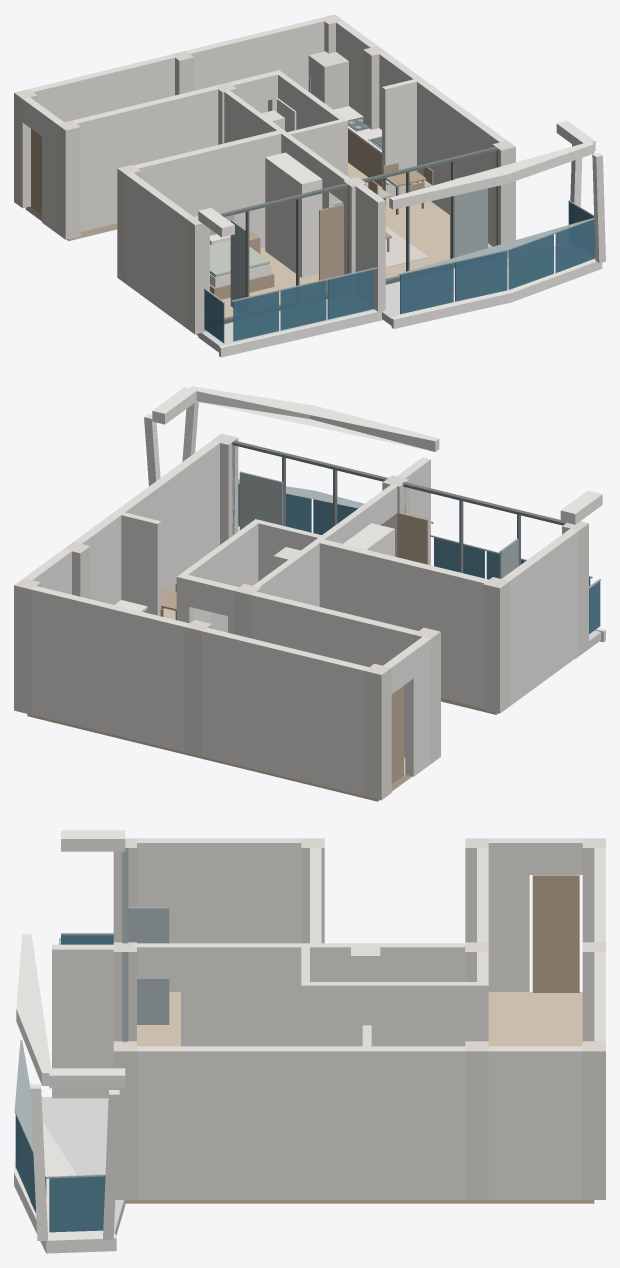
File: apartment.glb
The picture shows the model from 3 angles, top to bottom: view 1: azimuth 30°, elevation 25°; view 2: azimuth 150°, elevation 25°; view 3: azimuth 270°, elevation 25°; orthographic projection. The views are drawn at different scales.
Visible parts, largest first — view 1: Corridor core wall, Bedroom north wall, Living terrace glass (×4), West exterior bedroom, East exterior mid, North exterior kitchen, Bedroom balcony glass (×3), North exterior corridor, Wardrobe closet, Upper white facade band, Kitchen partition stub, Balcony divider wall (+43 smaller); view 2: North exterior corridor, North exterior kitchen, Bedroom north wall, East exterior mid, West exterior bedroom, Corridor core wall, Upper white facade band, Kitchen partition stub, NW Column, Bedroom-NW Column, Bathroom east wall, West corridor stub (+31 smaller); view 3: East exterior mid, West exterior bedroom, East exterior north, Bedroom divider wall, Bathroom east wall, Balcony divider wall, West corridor stub, Entrance open door, Corridor floor, Bathroom west wall, Living terrace slab, NE Column (+32 smaller).
Part boxes in pixels (x1=…): Corridor core wall: x1=72, y1=86, x2=218, y2=231; Bedroom north wall: x1=133, y1=130, x2=281, y2=247; Living terrace glass (×4): x1=400, y1=219, x2=595, y2=314; West exterior bedroom: x1=126, y1=173, x2=193, y2=327; East exterior mid: x1=379, y1=52, x2=506, y2=245; North exterior kitchen: x1=186, y1=18, x2=324, y2=113; Bedroom balcony glass (×3): x1=233, y1=269, x2=373, y2=341; North exterior corridor: x1=29, y1=54, x2=174, y2=122; Wardrobe closet: x1=265, y1=152, x2=322, y2=277; Upper white facade band: x1=389, y1=141, x2=594, y2=209; Kitchen partition stub: x1=382, y1=79, x2=416, y2=198; Balcony divider wall: x1=355, y1=184, x2=385, y2=311; North exterior corridor: x1=202, y1=627, x2=368, y2=795; North exterior kitchen: x1=31, y1=586, x2=189, y2=752; Bedroom north wall: x1=319, y1=539, x2=488, y2=707; East exterior mid: x1=73, y1=441, x2=219, y2=608; West exterior bedroom: x1=502, y1=528, x2=578, y2=705; Corridor core wall: x1=251, y1=591, x2=418, y2=757; Upper white facade band: x1=188, y1=386, x2=439, y2=451; Kitchen partition stub: x1=121, y1=512, x2=161, y2=616; NW Column: x1=364, y1=663, x2=391, y2=800; Bedroom-NW Column: x1=483, y1=577, x2=509, y2=713; Bathroom east wall: x1=177, y1=519, x2=258, y2=632; West corridor stub: x1=405, y1=637, x2=430, y2=776; East exterior mid: x1=137, y1=1046, x2=465, y2=1199; West exterior bedroom: x1=137, y1=838, x2=301, y2=991; East exterior north: x1=488, y1=1046, x2=582, y2=1199; Bedroom divider wall: x1=181, y1=943, x2=309, y2=1046; Bathroom east wall: x1=301, y1=982, x2=488, y2=1046; Balcony divider wall: x1=52, y1=944, x2=113, y2=1098; West corridor stub: x1=488, y1=838, x2=529, y2=991; Entrance open door: x1=532, y1=875, x2=579, y2=992; Corridor floor: x1=488, y1=992, x2=582, y2=1046; Bathroom west wall: x1=310, y1=943, x2=465, y2=981; Living terrace slab: x1=41, y1=1097, x2=125, y2=1235; NE Column: x1=582, y1=1041, x2=605, y2=1199.
Size of the model in its own units: 10.35 by 3.28 by 10.1.
